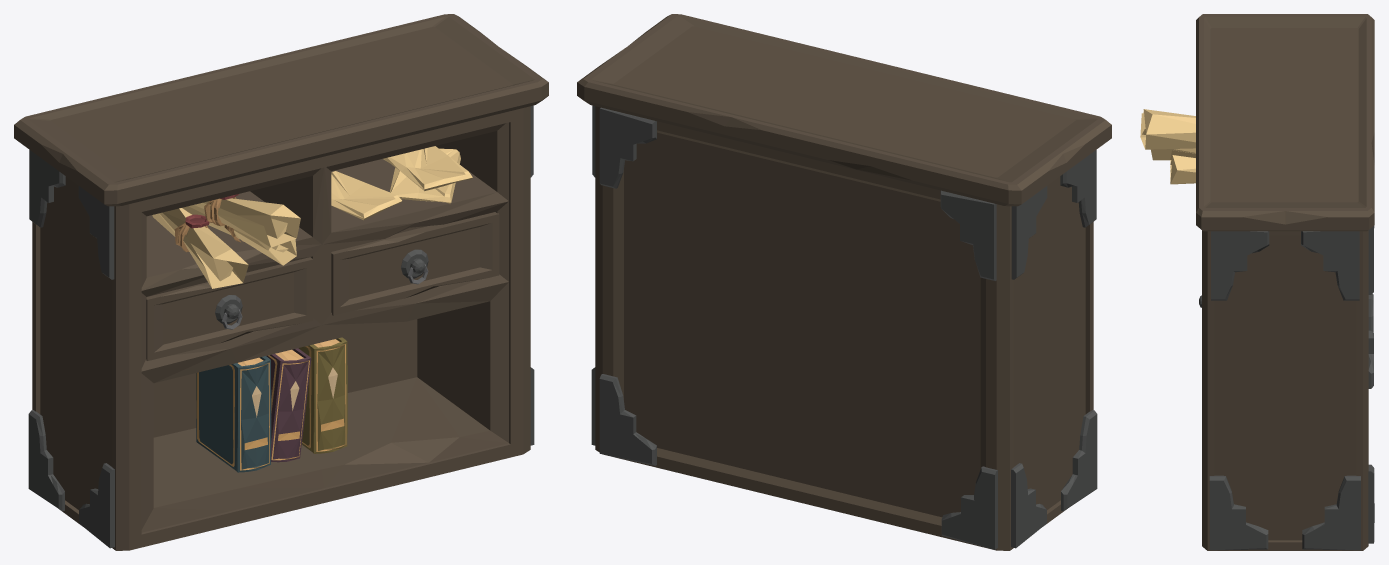
File: Shelving_021.fbx
3 views of the same model, side by side, from view 1: azimuth 30°, elevation 25°; view 2: azimuth 150°, elevation 25°; view 3: azimuth 270°, elevation 25° (orthographic). The views are drawn at different scales.
Visible parts, largest first — view 1: Shelving_021; view 2: Shelving_021; view 3: Shelving_021.
Boxes of the visible parts, box(x1,y1,x2,y2) form: Shelving_021: box(14, 14, 548, 550); Shelving_021: box(577, 14, 1111, 550); Shelving_021: box(1140, 14, 1374, 550).
Bounding box in the file's own units: 1.15 × 0.9119 × 0.5619.
